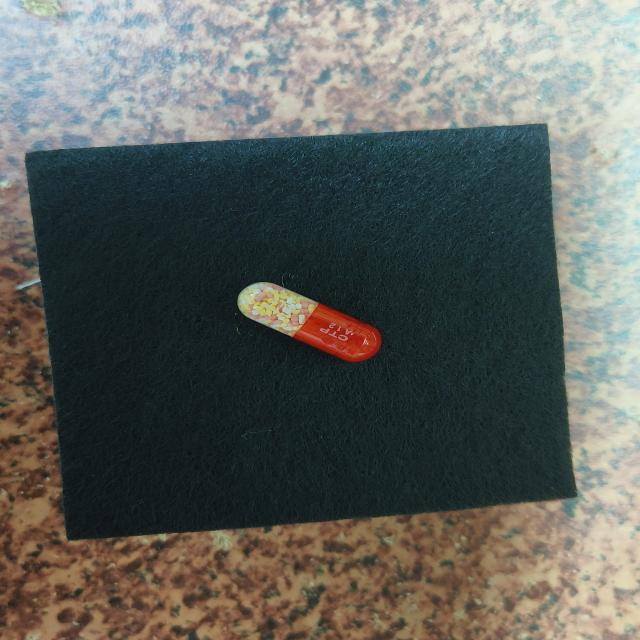Intact Capsule: (237, 282, 381, 362)
